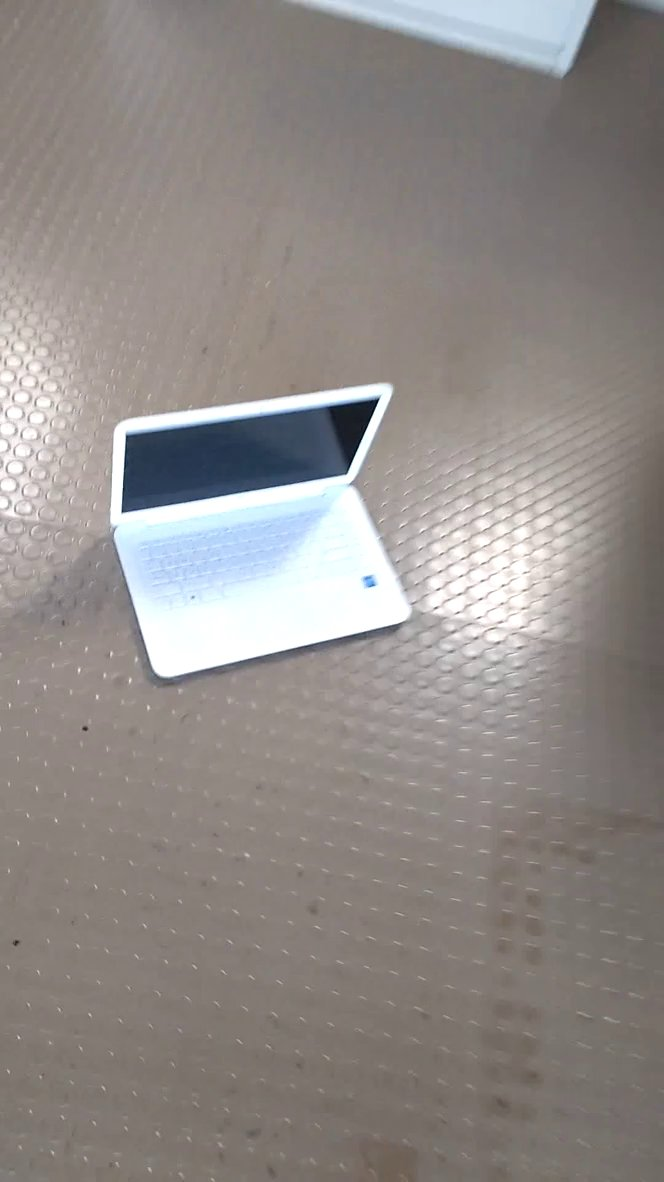laptop: (107, 370, 426, 687)
